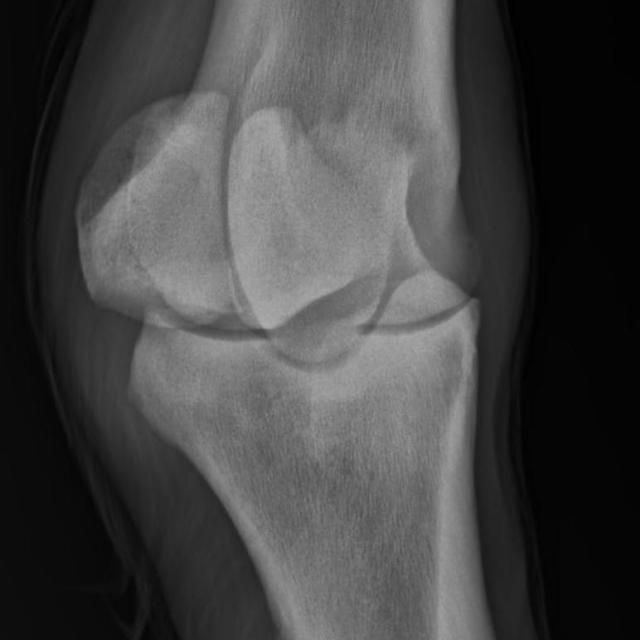bone remodeling: (462, 262, 501, 336)
